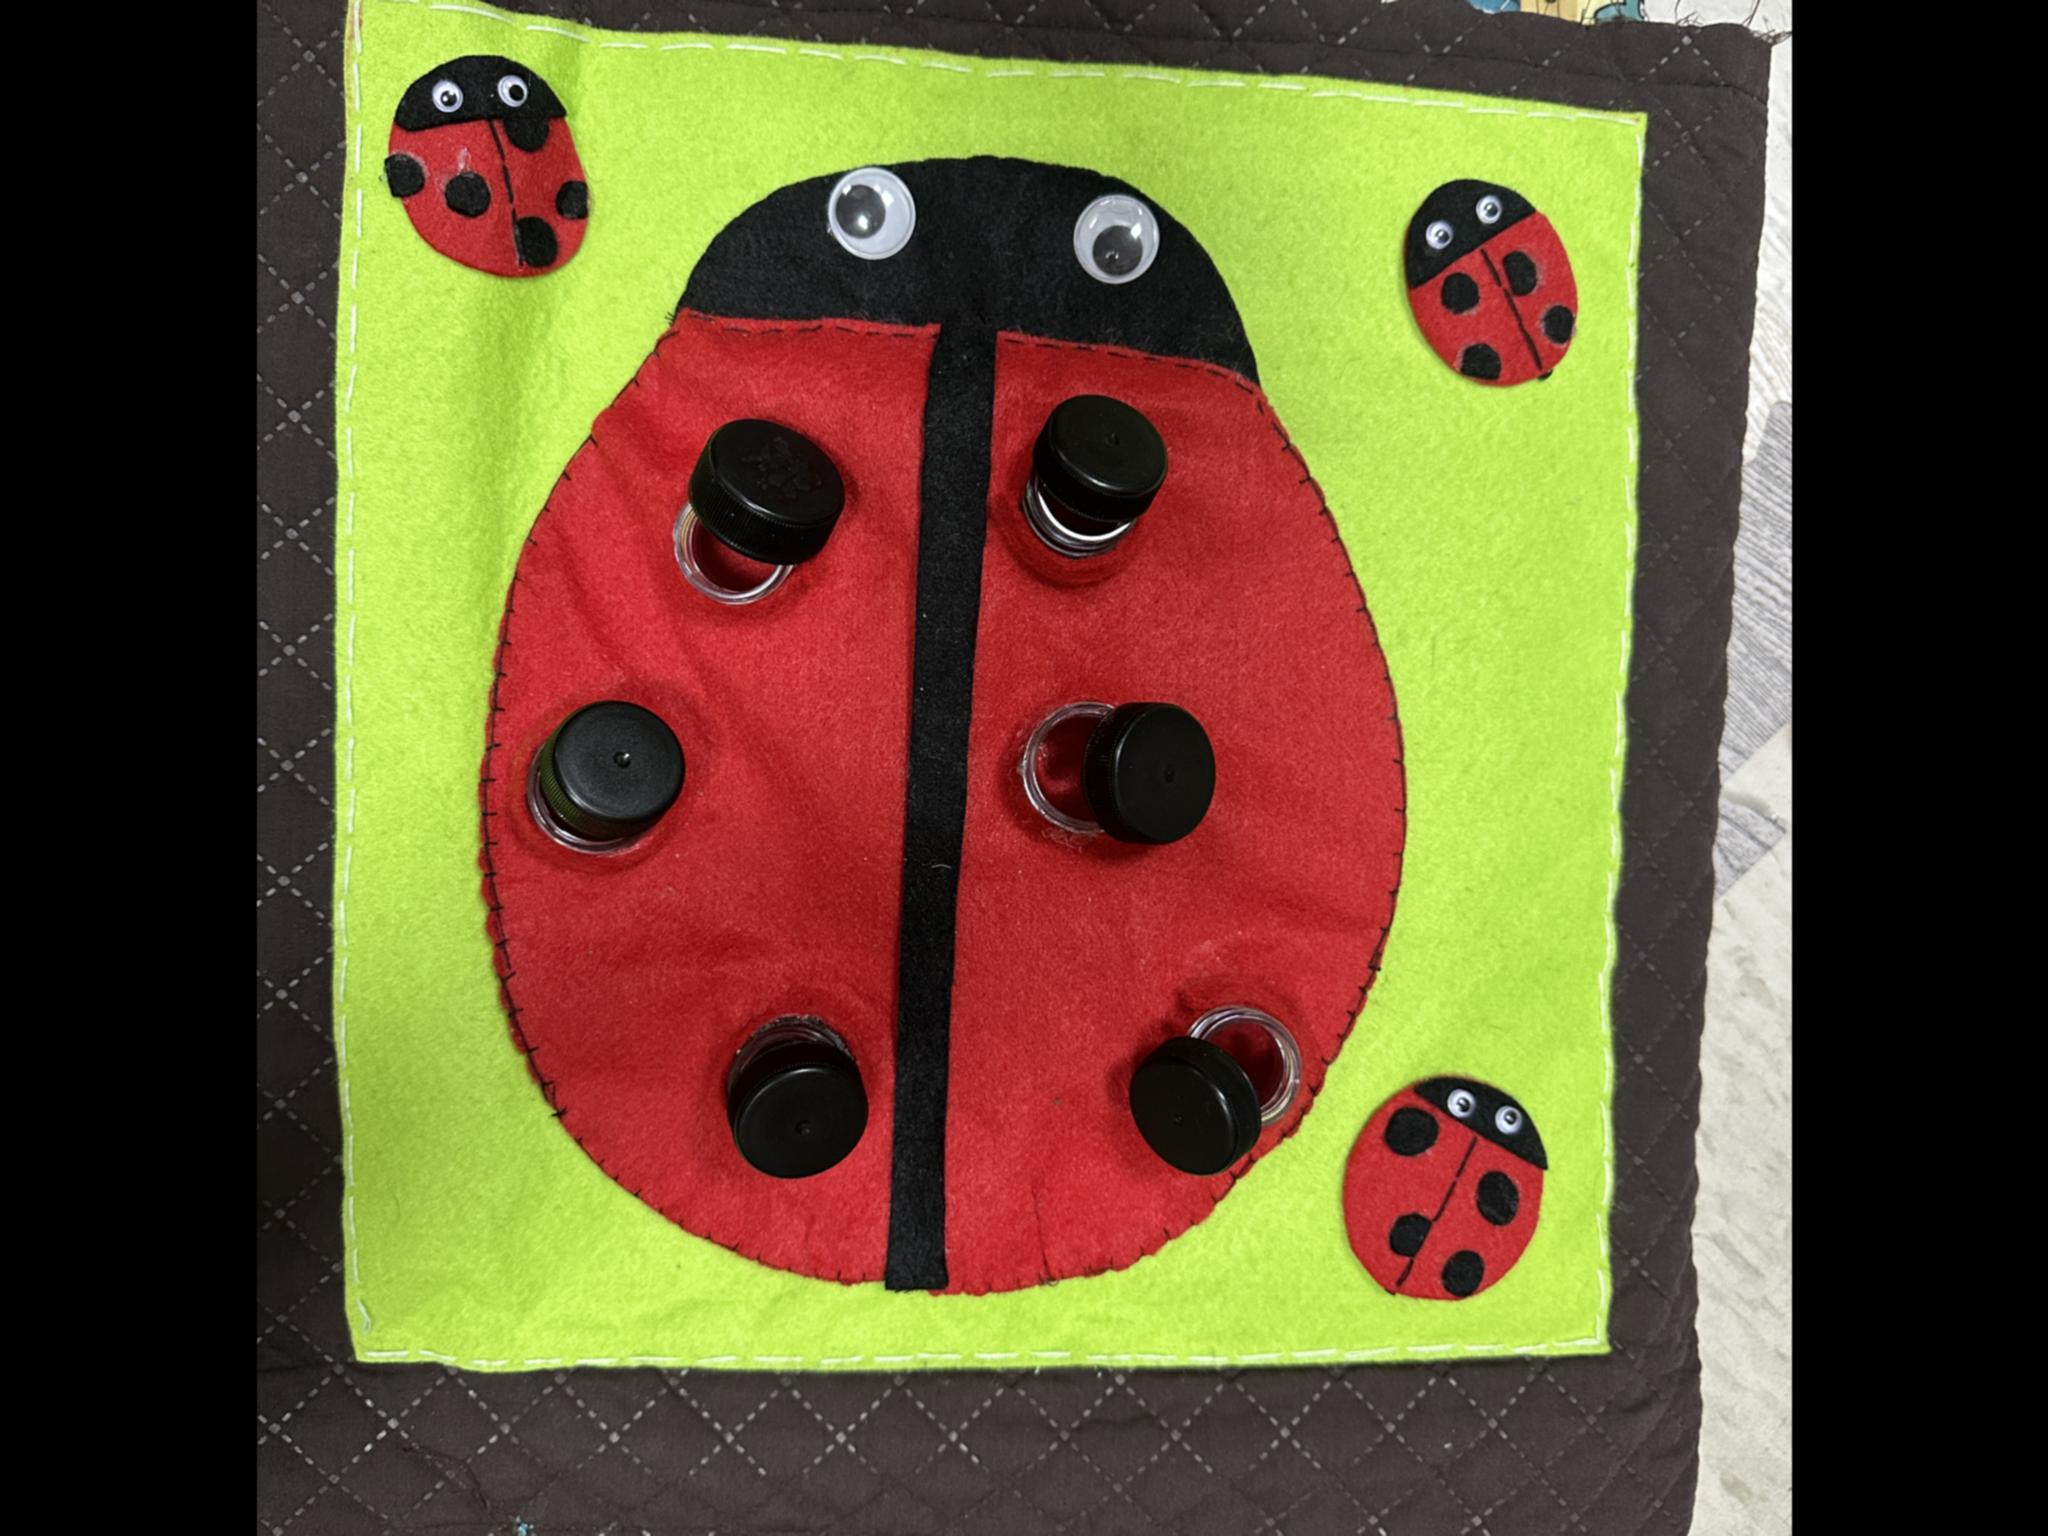cap_ng: (658, 402, 860, 629), (995, 679, 1226, 865), (700, 981, 890, 1200), (508, 676, 714, 878), (1116, 986, 1316, 1192), (998, 392, 1185, 605)
